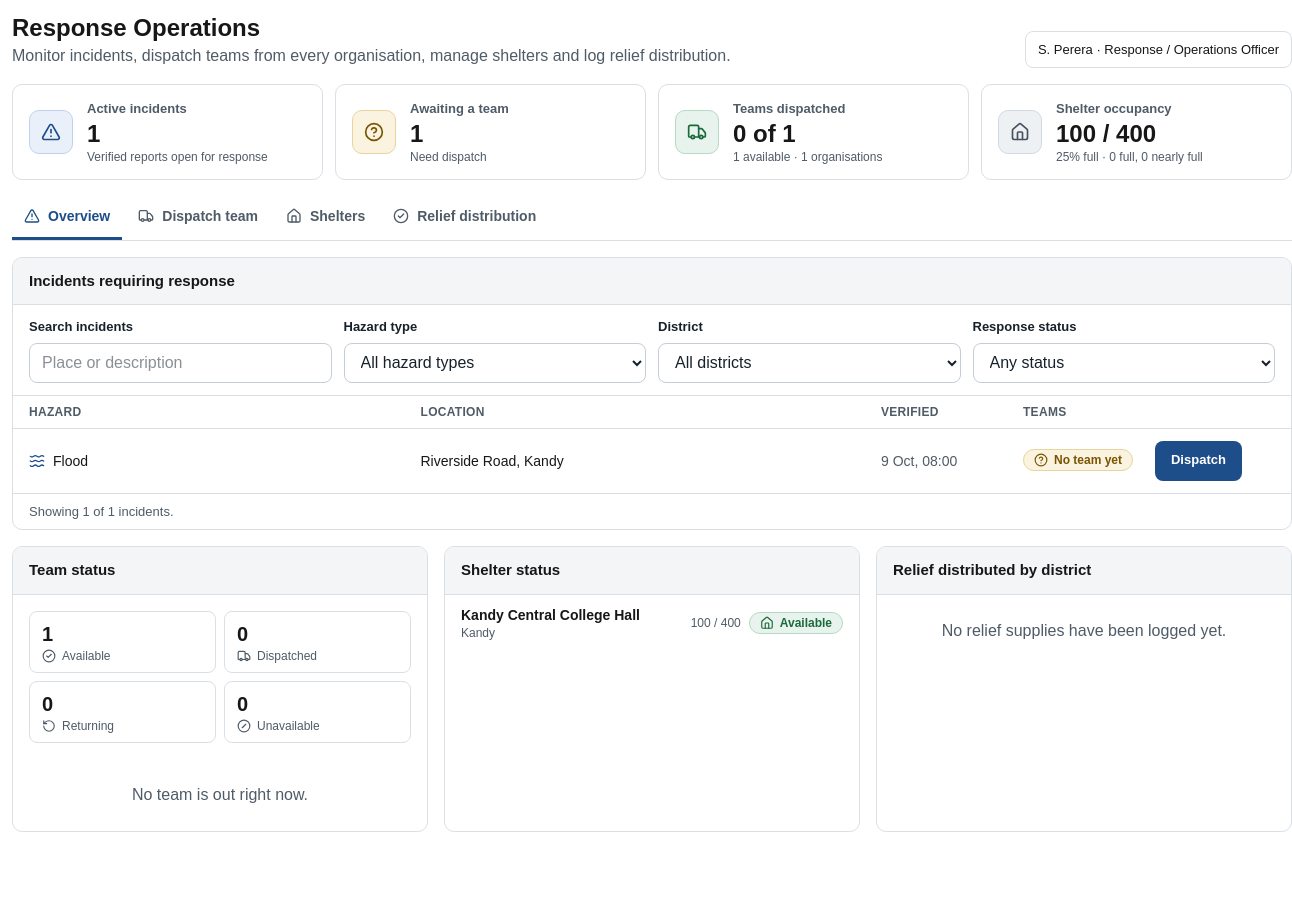
Scenario: Relief tab › says so when nothing has been distributed yet
This screenshot has width=1292, height=912.
Expected: the text "Active incidents" is shown, [87,101,187,116]
Click the tab "Relief distribution" at point(465, 218), box [381,196,548,240]
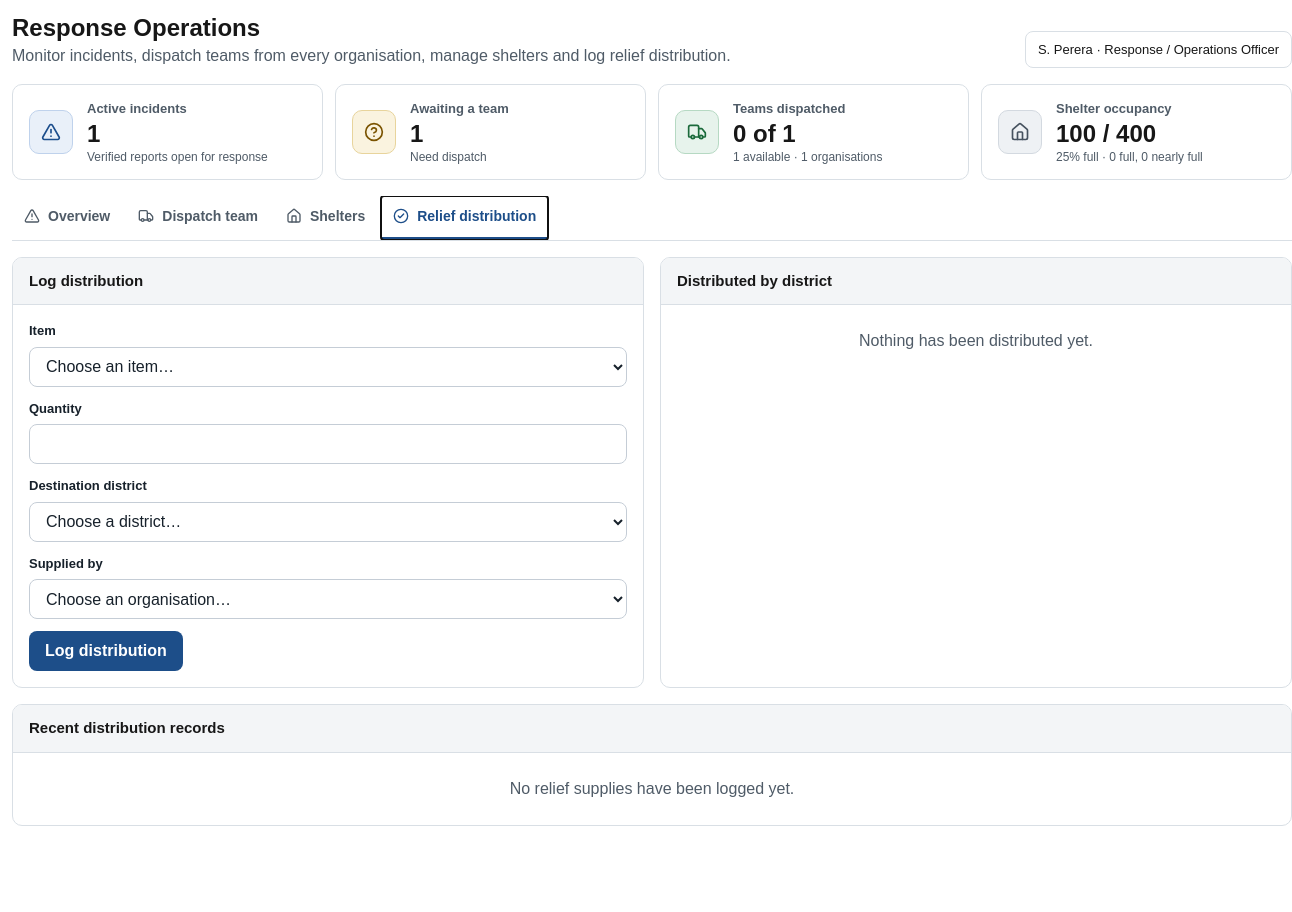
Result: the text "Nothing has been distributed yet." is shown at [859,332,1093,349]
